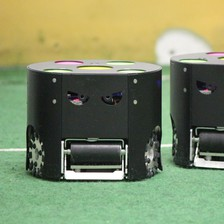robot: (24, 55, 164, 184), (168, 48, 224, 170)
